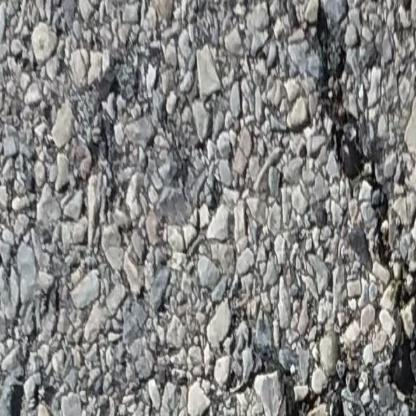Cracks: (304, 0, 416, 416), (231, 345, 353, 416), (358, 411, 394, 416)
